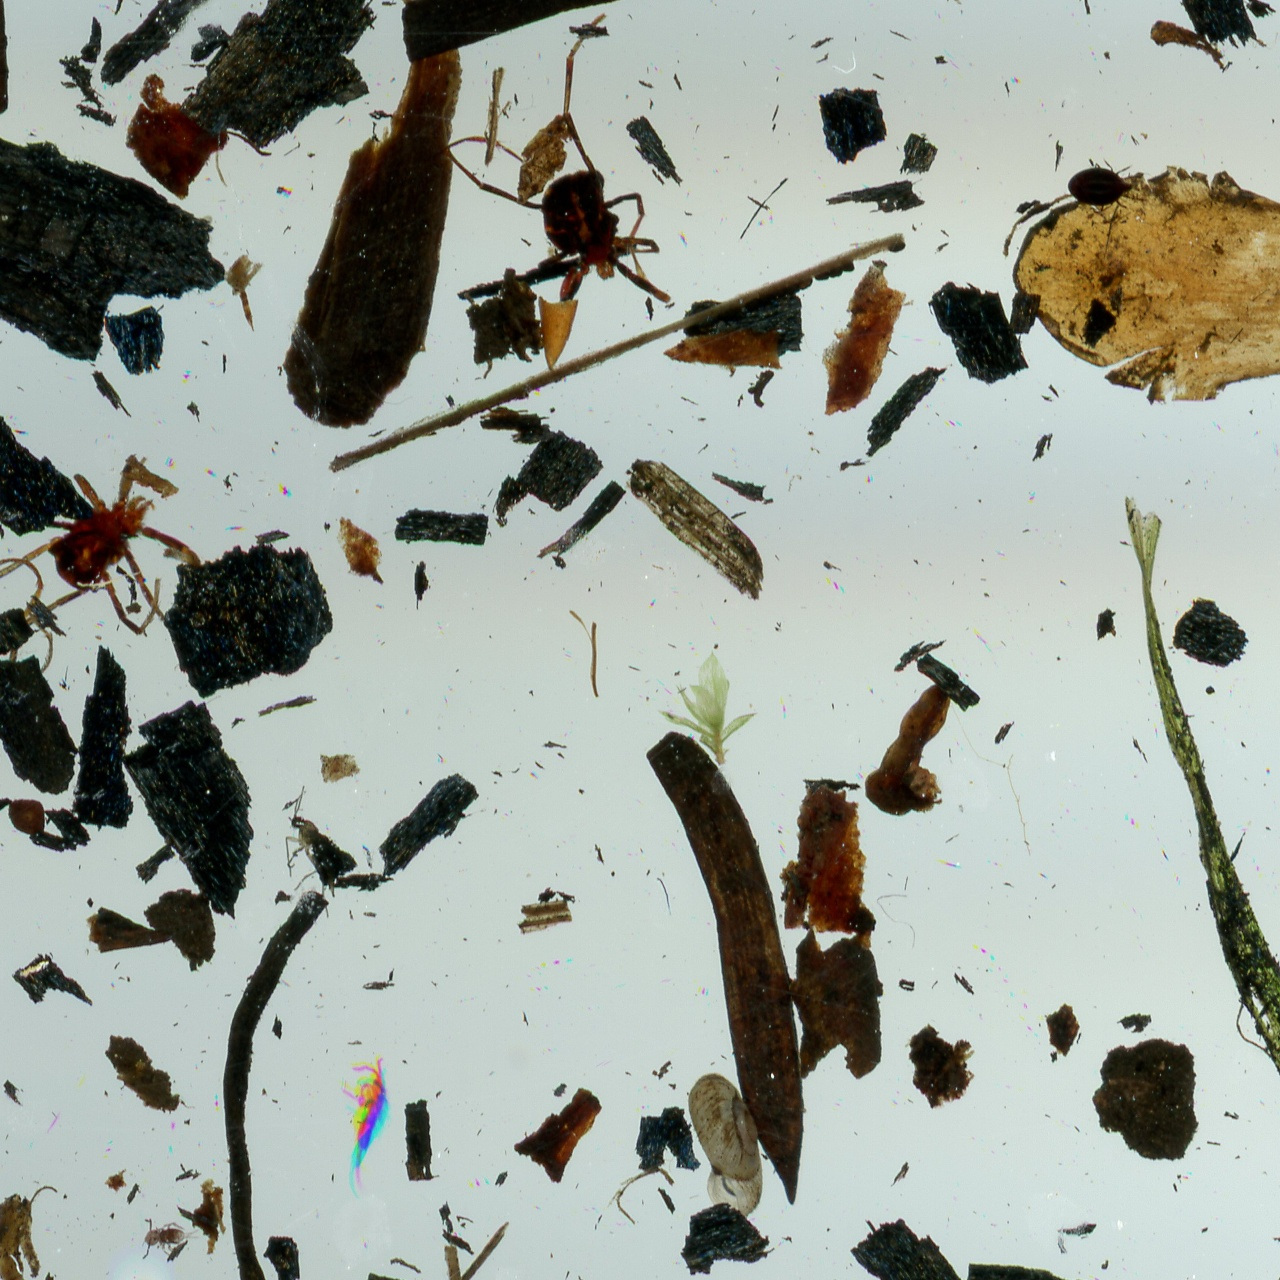arthropod: (442, 8, 683, 306), (0, 998, 159, 1280), (0, 449, 209, 660), (683, 1071, 768, 1220), (279, 784, 345, 924), (339, 1056, 400, 1201), (1065, 158, 1155, 213), (138, 1212, 203, 1262), (375, 0, 529, 13), (939, 0, 979, 7)
